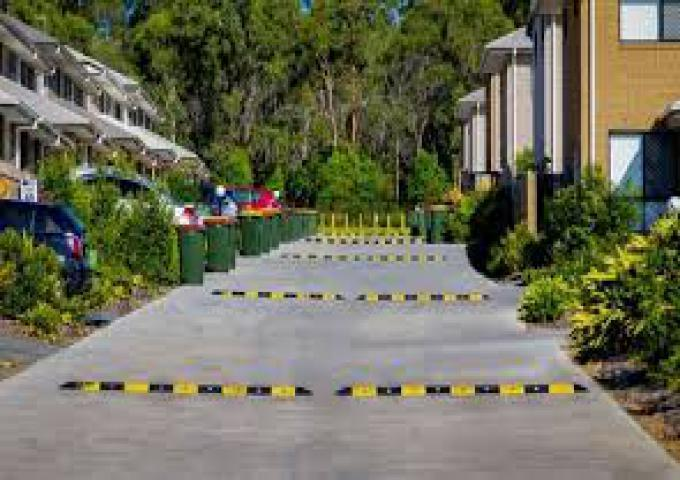speedbreaker: (42, 366, 586, 409), (211, 280, 489, 308), (276, 252, 454, 268)
